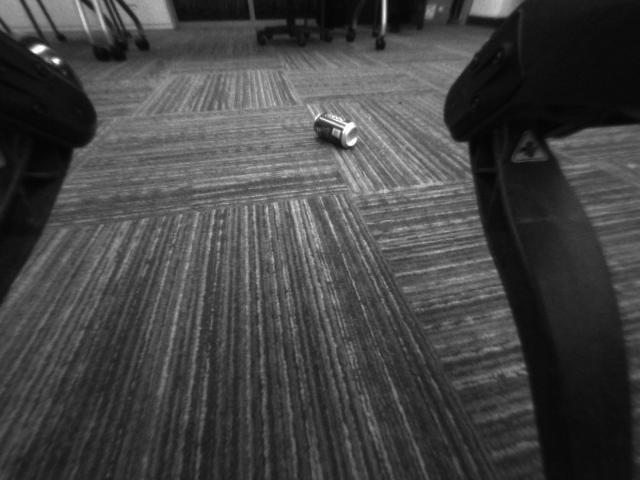can: (309, 111, 367, 150)
